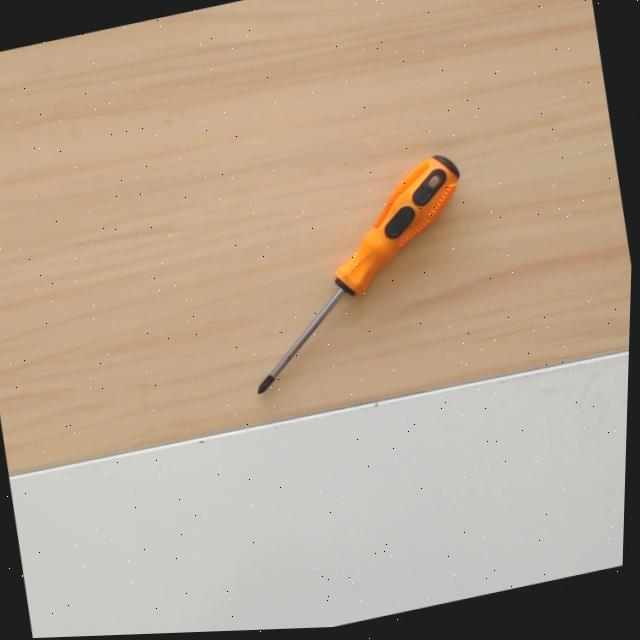Obeng-Besar: (228, 146, 471, 398)
